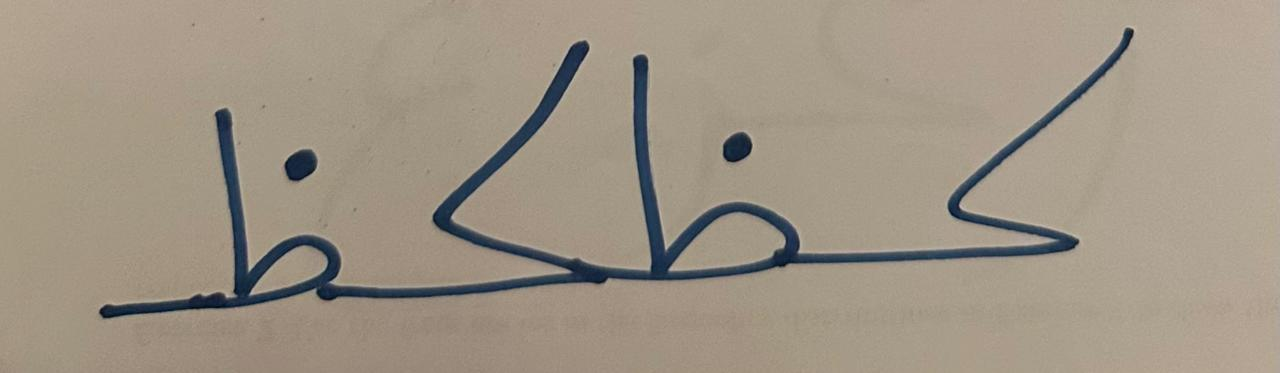khah: (843, 13, 1207, 325), (363, 16, 603, 325)
zain: (39, 48, 360, 347), (606, 19, 837, 322)
